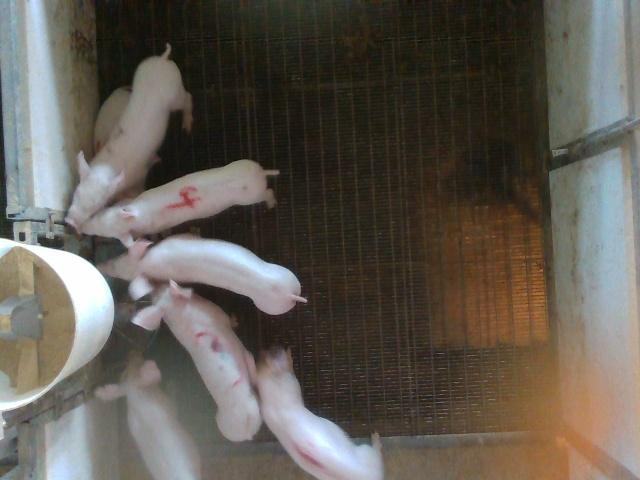pig-1: (258, 348, 382, 479)
pig-2: (66, 45, 191, 231)
pig-3: (132, 280, 261, 441)
pig-4: (81, 159, 279, 246)
